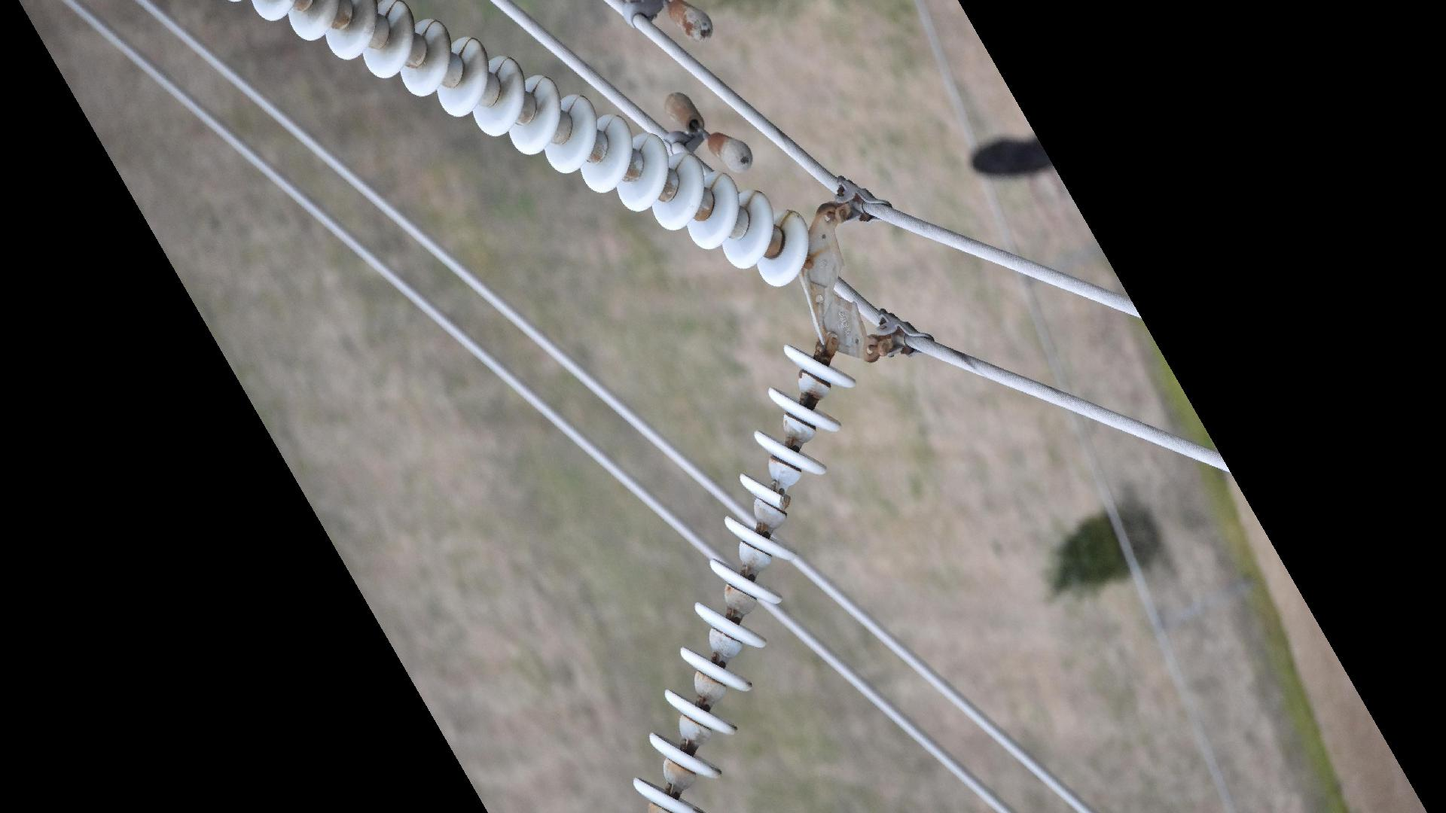insulator: (229, 1, 815, 297), (627, 337, 861, 813)
insulator_breakage: (769, 488, 798, 513)
